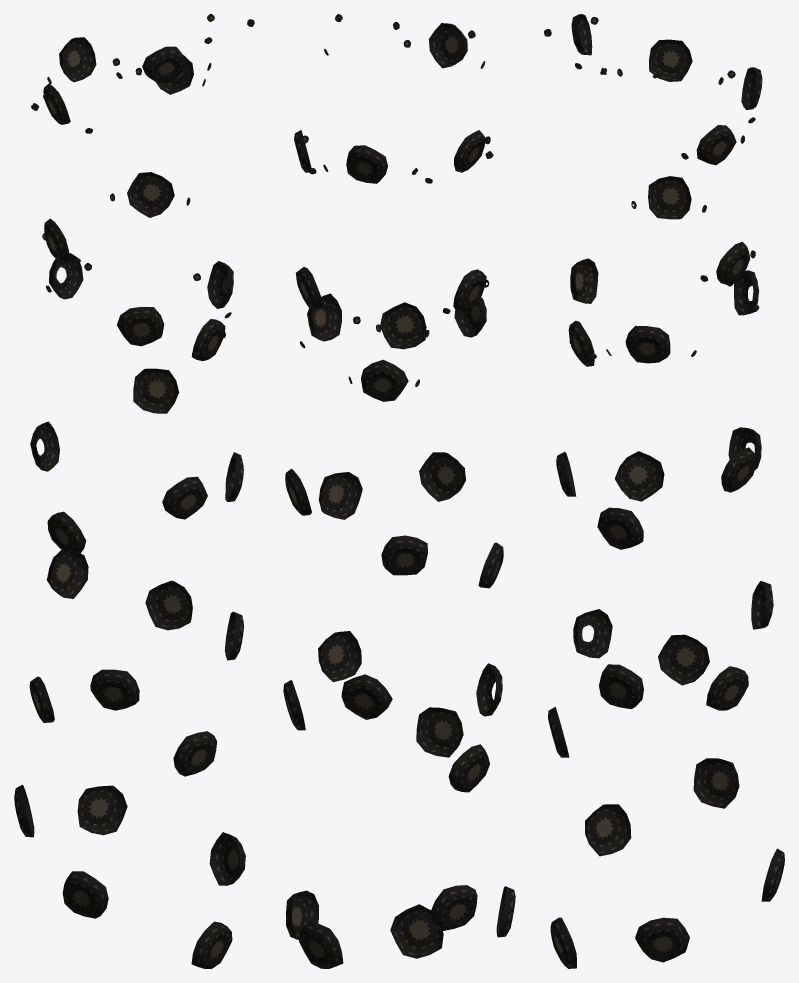
File: Sitka_Mature_01_MediumPruned_Healed_LOD2.fbx
The picture shows the model from 3 angles, left to right: view 1: azimuth 30°, elevation 25°; view 2: azimuth 150°, elevation 25°; view 3: azimuth 270°, elevation 25°; orthographic projection. The views are drawn at different scales.
Parts seen in each view (by area): view 1: Sitka_Mature_01_MediumPruned_Healed_LOD2_Scars; view 2: Sitka_Mature_01_MediumPruned_Healed_LOD2_Scars; view 3: Sitka_Mature_01_MediumPruned_Healed_LOD2_Scars.
Part boxes in pixels (bbox=[...]): Sitka_Mature_01_MediumPruned_Healed_LOD2_Scars: bbox=[14, 14, 254, 968]; Sitka_Mature_01_MediumPruned_Healed_LOD2_Scars: bbox=[283, 14, 515, 968]; Sitka_Mature_01_MediumPruned_Healed_LOD2_Scars: bbox=[544, 14, 784, 968].
Size of what is drawn, in the model's own units: 128 by 563 by 132.
Materials: 2 (2 with a texture image).
